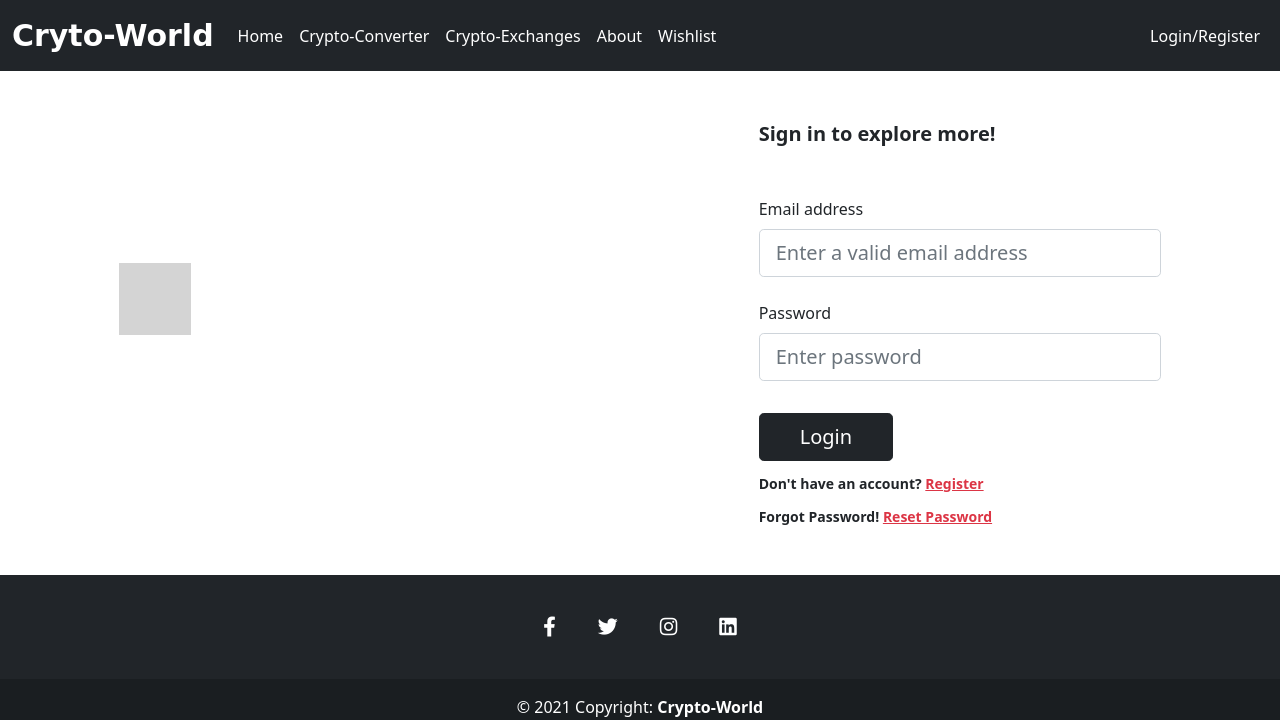
Scenario: Crypto World e2e testing › Should check for login with wrong credentials
Type "tarunk4@gmail.com" into the field with id "loginemail" at (961, 253), box x1=759 y1=229 x2=1162 y2=277
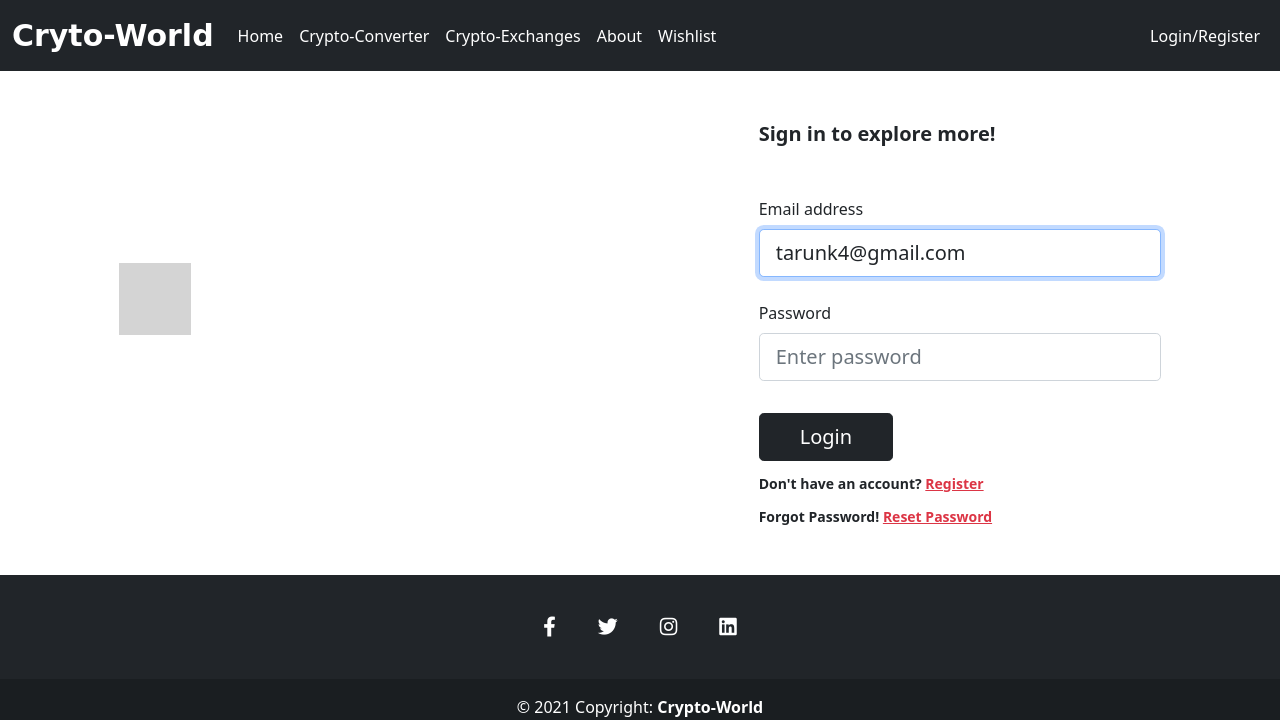
Type "123456789" into the password field with id "loginpassword" at (961, 357), box x1=759 y1=333 x2=1162 y2=381
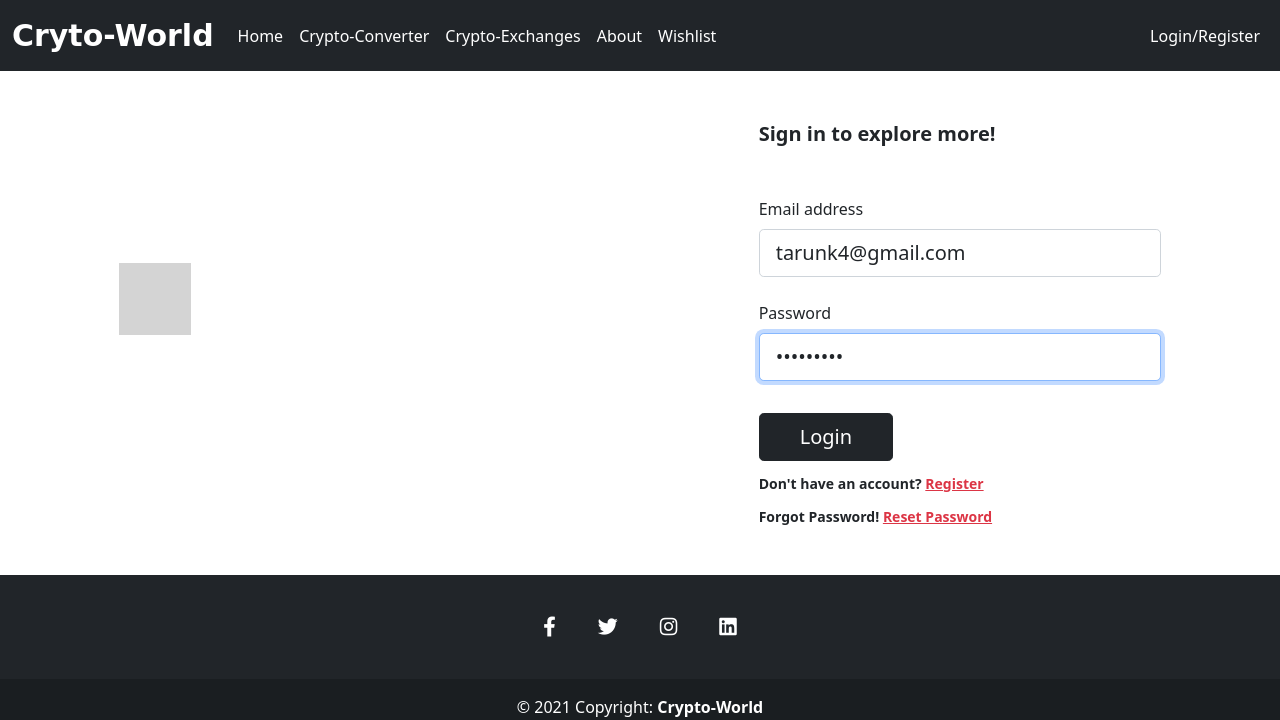
Click the button with id "loginbtn" at (826, 437), box x1=759 y1=413 x2=893 y2=461
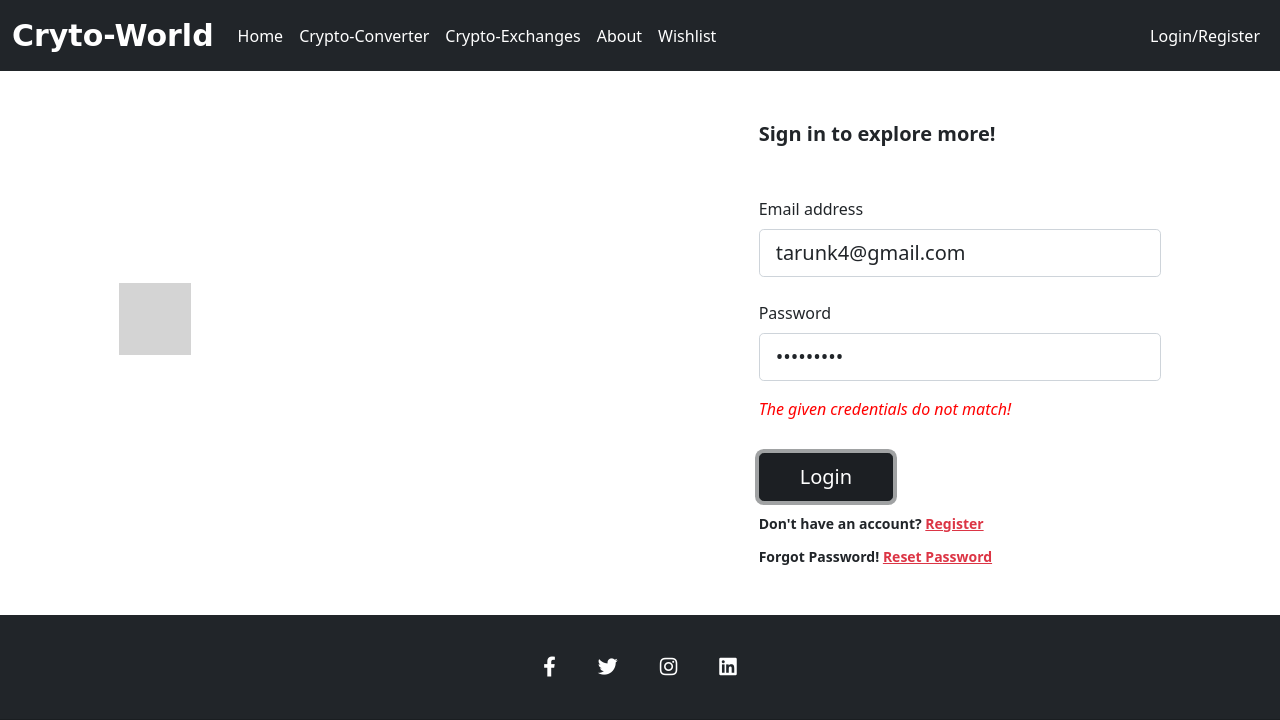
Now the text with id "mtch" reads "The given credentials do not match!", box x1=759 y1=398 x2=1012 y2=420
